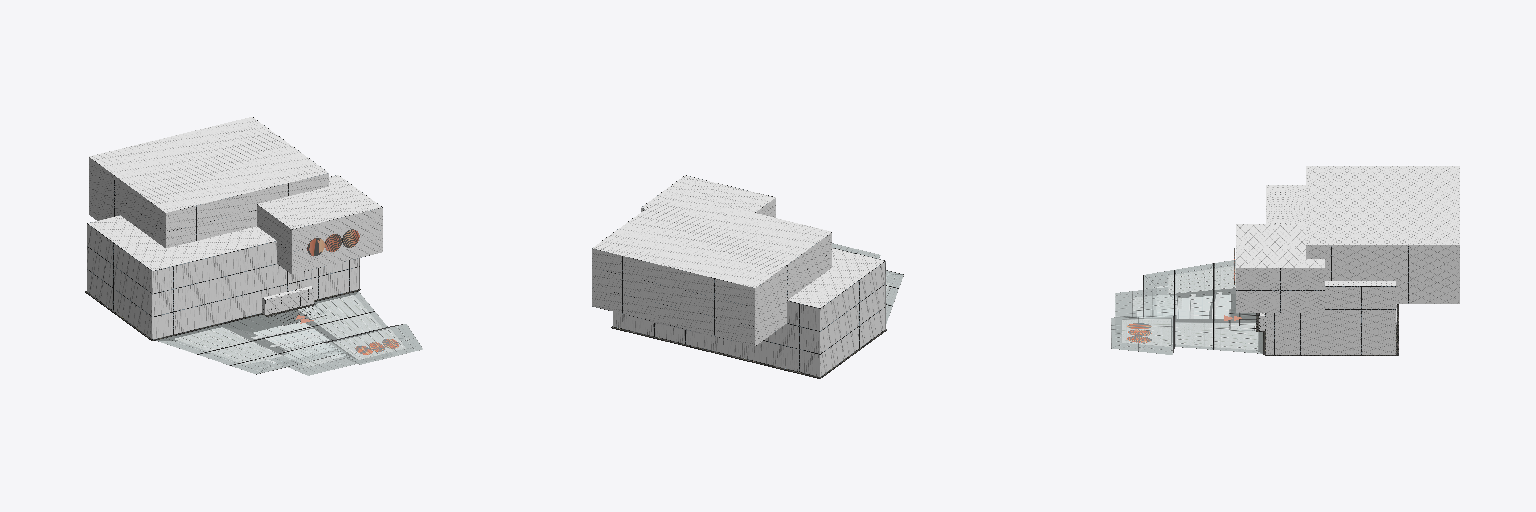
The picture shows the model from 3 angles: view 1: azimuth 30°, elevation 25°; view 2: azimuth 150°, elevation 25°; view 3: azimuth 270°, elevation 25°; orthographic projection.
Visible parts, largest first — view 1: Mesh330 Group38 Group36 Model, Mesh534 Group58 Model, Mesh324 Group34 Group12 Model, Mesh80 Group13 Group12 Model, Mesh336 Group41 Group36 Model, Mesh84 Group15 Group12 Model, Mesh72 Group9 Group2 Model, Mesh70 Group8 Group2 Model, Mesh332 Group39 Group36 Model, Mesh76 Group11 Group2 Model, Mesh632 Group87 door001_1 Model; view 2: Mesh330 Group38 Group36 Model, Mesh328 Group37 Group36 Model, Mesh82 Group14 Group12 Model, Mesh80 Group13 Group12 Model, Mesh332 Group39 Group36 Model, Mesh84 Group15 Group12 Model, Mesh70 Group8 Group2 Model, Mesh534 Group58 Model, Mesh1 Group1 Model; view 3: Mesh330 Group38 Group36 Model, Mesh534 Group58 Model, Mesh86 Group16 Group12 Model, Mesh334 Group40 Group36 Model, Mesh68 Group7 Group2 Model, Mesh70 Group8 Group2 Model, Mesh84 Group15 Group12 Model.
Part boxes in pixels (left/top/right/bottom): Mesh330 Group38 Group36 Model: left=89, top=117, right=327, bottom=212; Mesh534 Group58 Model: left=153, top=290, right=422, bottom=375; Mesh324 Group34 Group12 Model: left=152, top=241, right=358, bottom=338; Mesh80 Group13 Group12 Model: left=87, top=224, right=151, bottom=338; Mesh336 Group41 Group36 Model: left=166, top=173, right=328, bottom=247; Mesh84 Group15 Group12 Model: left=88, top=216, right=275, bottom=270; Mesh72 Group9 Group2 Model: left=292, top=208, right=382, bottom=273; Mesh70 Group8 Group2 Model: left=258, top=175, right=381, bottom=228; Mesh332 Group39 Group36 Model: left=89, top=157, right=165, bottom=247; Mesh76 Group11 Group2 Model: left=257, top=205, right=291, bottom=273; Mesh632 Group87 door001_1 Model: left=266, top=288, right=313, bottom=314; Mesh330 Group38 Group36 Model: left=593, top=192, right=830, bottom=287; Mesh328 Group37 Group36 Model: left=592, top=249, right=754, bottom=345; Mesh82 Group14 Group12 Model: left=613, top=301, right=819, bottom=376; Mesh80 Group13 Group12 Model: left=820, top=262, right=884, bottom=376; Mesh332 Group39 Group36 Model: left=755, top=233, right=831, bottom=345; Mesh84 Group15 Group12 Model: left=788, top=248, right=883, bottom=307; Mesh70 Group8 Group2 Model: left=641, top=175, right=775, bottom=212; Mesh534 Group58 Model: left=832, top=243, right=903, bottom=323; Mesh1 Group1 Model: left=611, top=326, right=886, bottom=378; Mesh330 Group38 Group36 Model: left=1306, top=166, right=1459, bottom=244; Mesh534 Group58 Model: left=1111, top=260, right=1264, bottom=354; Mesh86 Group16 Group12 Model: left=1266, top=287, right=1395, bottom=354; Mesh334 Group40 Group36 Model: left=1306, top=245, right=1459, bottom=303; Mesh68 Group7 Group2 Model: left=1236, top=268, right=1324, bottom=312; Mesh70 Group8 Group2 Model: left=1236, top=224, right=1324, bottom=267; Mesh84 Group15 Group12 Model: left=1266, top=185, right=1395, bottom=285.
Bounding box in the file's own units: 79.27 × 32.61 × 101.
Materials: 14 (7 with a texture image).